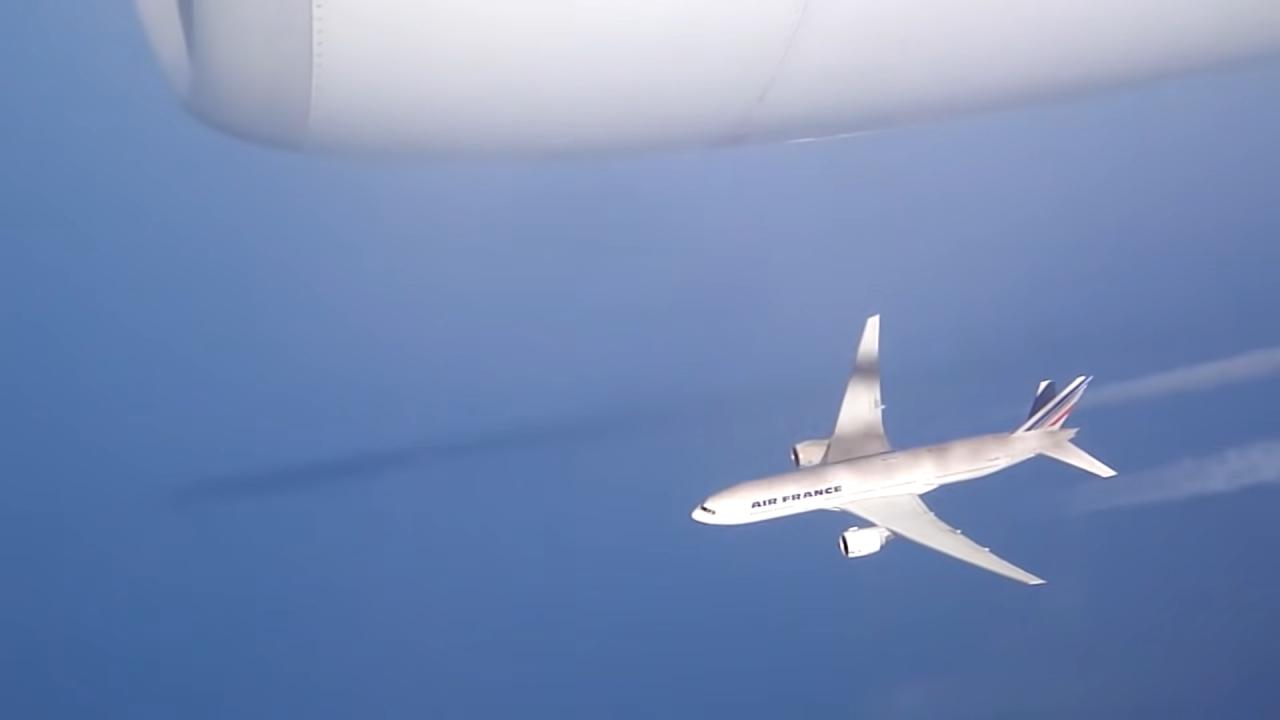Airplane: (677, 299, 1130, 606)
